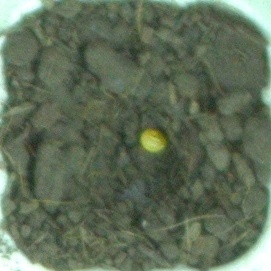chilli seed: (138, 127, 170, 154)
